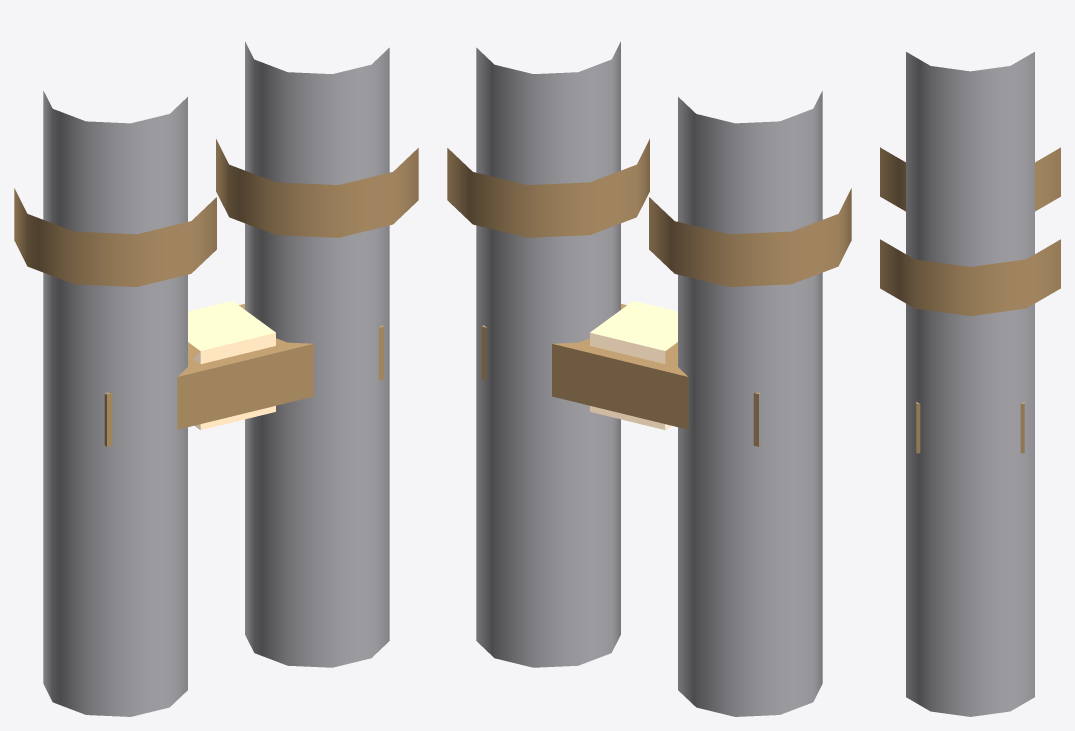
Rendered from tubos_cobre.glb.
3 renders of one model, left to right at view 1: azimuth 30°, elevation 25°; view 2: azimuth 150°, elevation 25°; view 3: azimuth 270°, elevation 25°, orthographic. The views are drawn at different scales.
Visible parts, largest first — view 1: Base, Accent, Glow; view 2: Base, Accent, Glow; view 3: Base, Accent.
Boxes of the visible parts, x1,y1,x2,y2 form: Base: (43,41,389,716); Accent: (14,139,418,446); Glow: (188,300,275,430); Base: (476,41,822,716); Accent: (447,139,851,446); Glow: (590,300,677,429); Base: (906,52,1034,716); Accent: (880,147,1060,453).
Size of the model in its own units: 0.3 by 0.45 by 0.1331.
